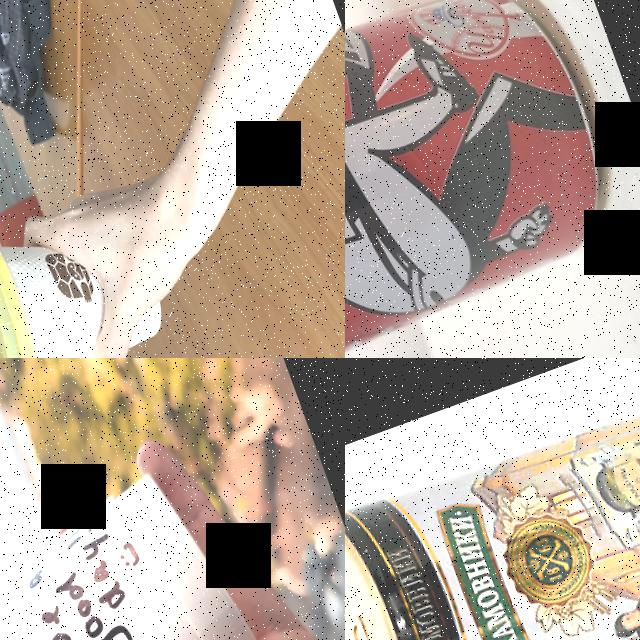can: (345, 0, 640, 358), (345, 358, 640, 640)
cup: (0, 450, 300, 640), (0, 187, 179, 358)
